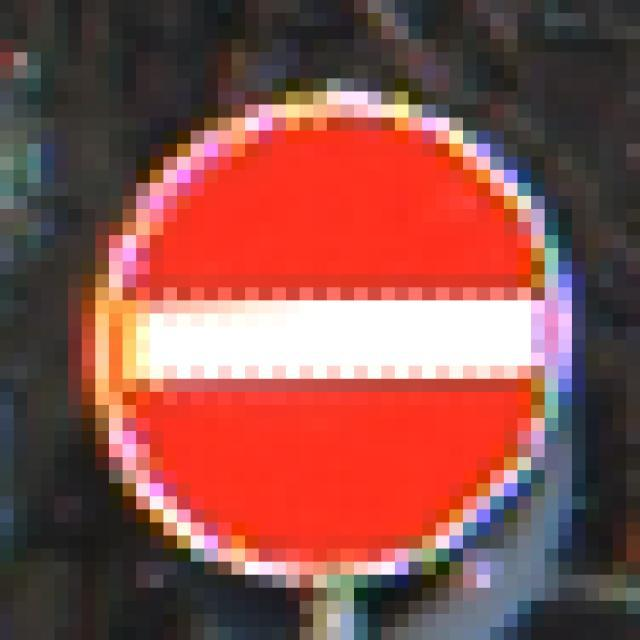no entry: (69, 75, 576, 583)
